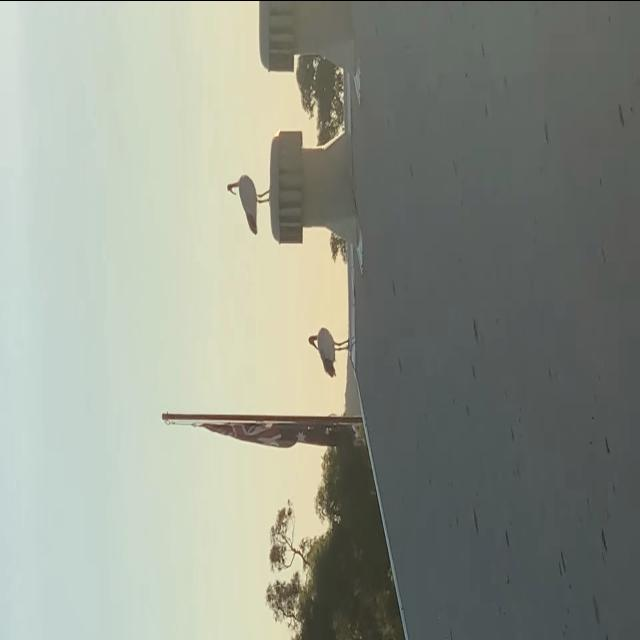Birds-Ibis: (225, 170, 272, 238), (306, 323, 354, 380)
